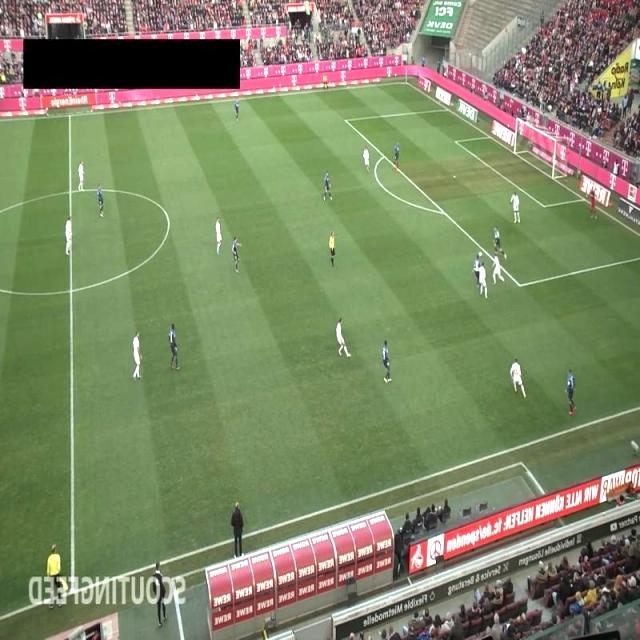bigarea_bottom_inner: (514, 278, 525, 290)
bigarea_top_inner: (340, 115, 350, 126)
bigarea_top_outter: (443, 104, 454, 115)
bottom_arc_area_intersection: (438, 206, 449, 218)
corner: (401, 78, 412, 89)
halfcircle_bottom: (65, 284, 76, 296)
halfcircle_top: (64, 186, 75, 197)
midline_bottom_intersection: (62, 581, 83, 603)
midline_top_intersection: (64, 110, 75, 120)
smallarea_bottom_inner: (538, 199, 549, 210)
smallarea_bottom_outter: (580, 194, 590, 205)
smallarea_top_inner: (450, 135, 460, 146)
smallarea_top_outter: (485, 132, 496, 142)
top_arc_area_intersection: (380, 152, 390, 162)
